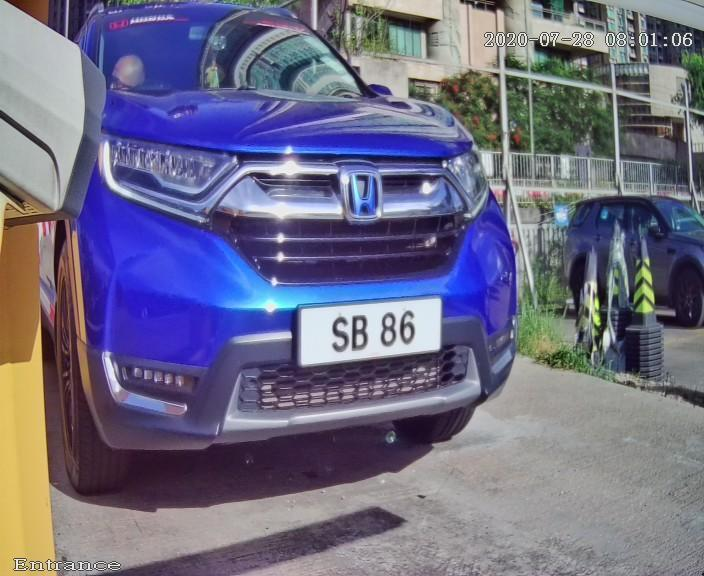privatecar: (7, 21, 576, 507)
